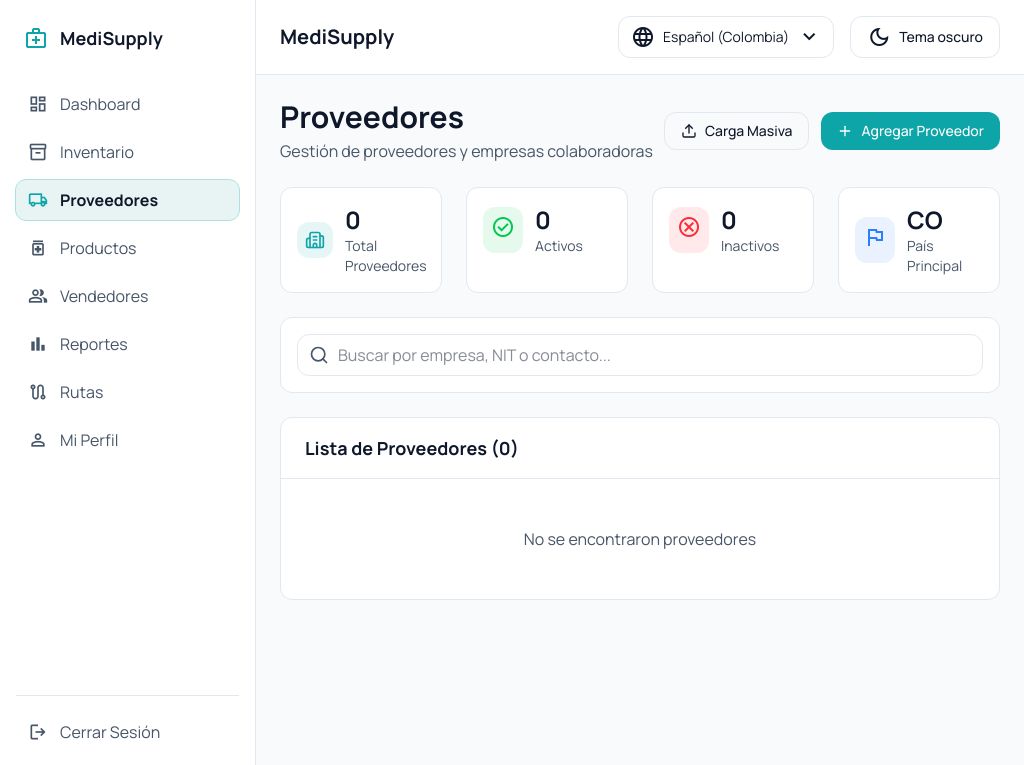
Test case: Registro de proveedores y carga de productos (individual y masivo) › Gestión de Proveedores › debe navegar a formulario de agregar proveedor
The image size is (1024, 765).
// Click en agregar proveedor
Click the button "Agregar Proveedor": (911, 131) [821,112,1000,150]
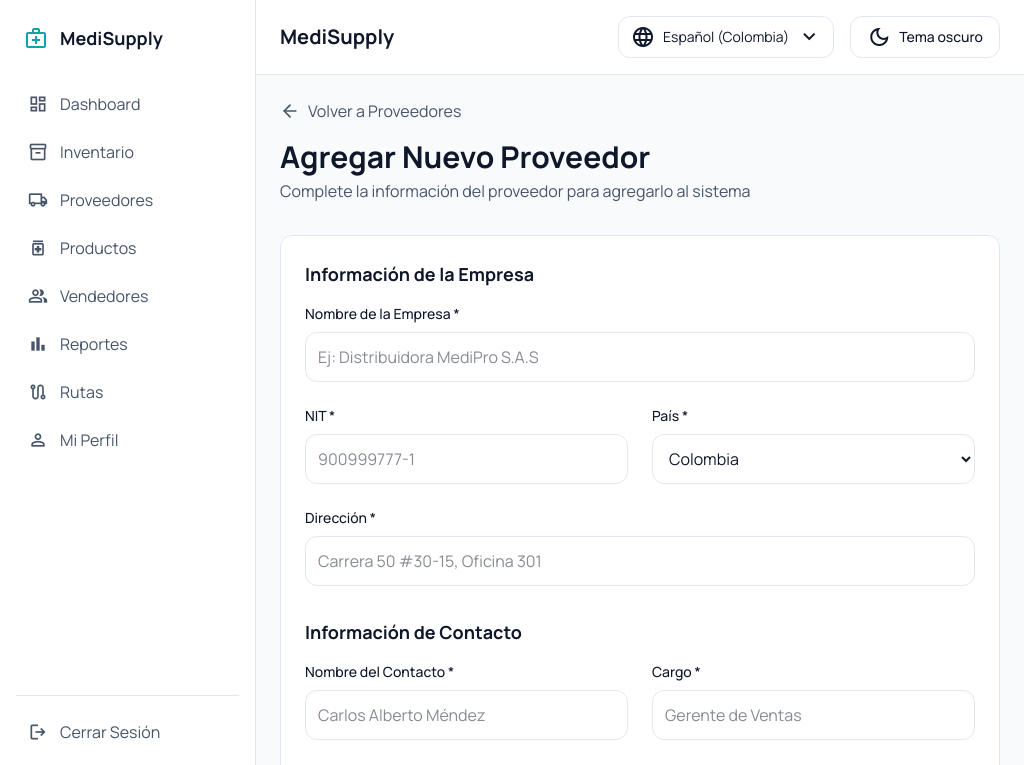
Check: the heading "Agregar Nuevo Proveedor" is shown, box [280,136,650,177]
